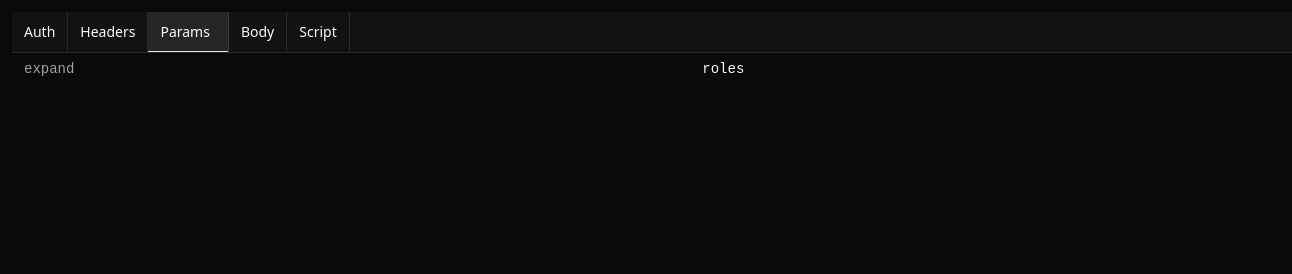
Test: RequestPane › should render username and password fields when the active request auth is basic
Click the tab "Auth" at coordinates (40, 32), box [12, 12, 68, 52]
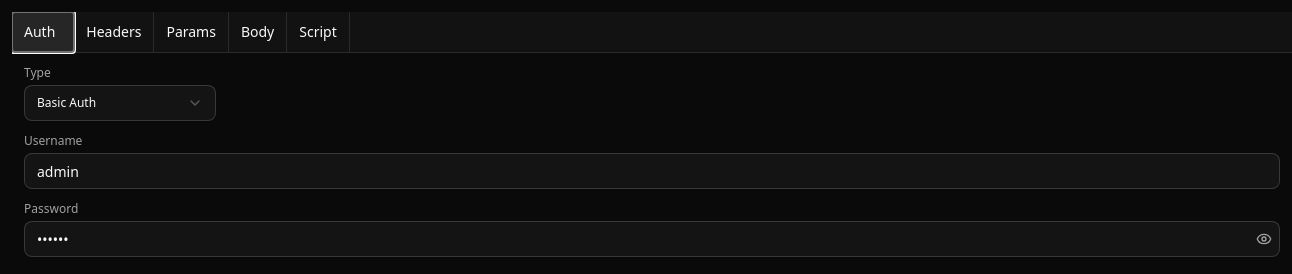
Expected: the field labelled "Username" holds "admin", [24, 153, 1280, 189]
Expected: the password field labelled "Password" holds "s3cret", [24, 221, 1280, 257]
